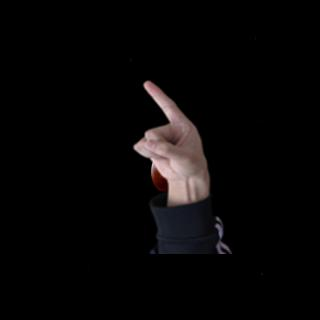IRRITATED: (130, 77, 211, 179)
